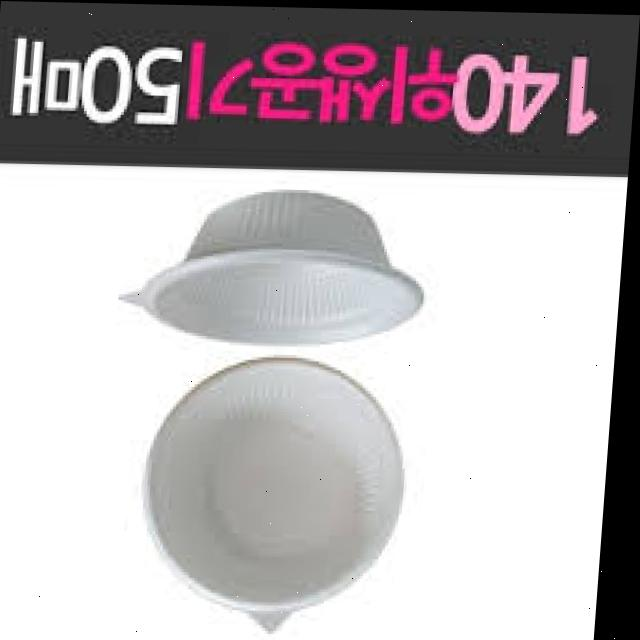disposable: (100, 168, 441, 366)
